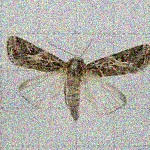Spodoptera litura: (6, 27, 148, 122)
